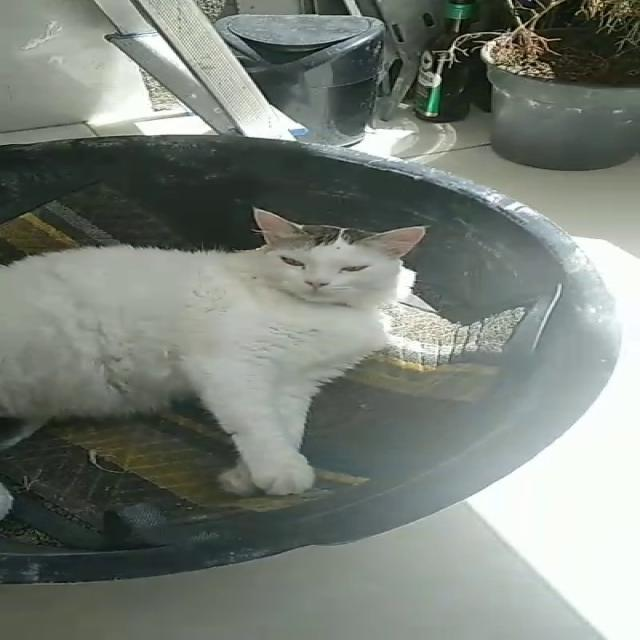Simba: (2, 172, 476, 562)
